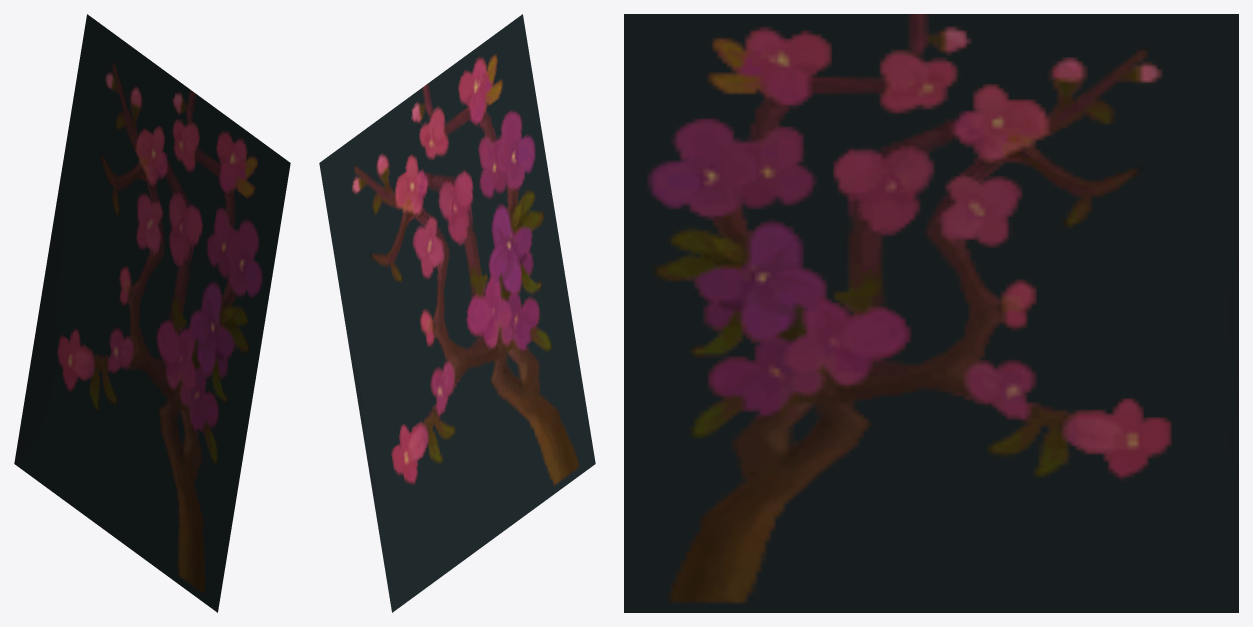
Rendered from jm_zhiwu05.FBX.
The picture shows the model from 3 angles, left to right: view 1: azimuth 30°, elevation 25°; view 2: azimuth 150°, elevation 25°; view 3: azimuth 270°, elevation 25°; orthographic projection. The views are drawn at different scales.
Visible parts, largest first — view 1: jm_zhiwu05_001; view 2: jm_zhiwu05_001; view 3: jm_zhiwu05_001.
Part boxes in pixels (bbox=[...]): jm_zhiwu05_001: bbox=[14, 14, 290, 612]; jm_zhiwu05_001: bbox=[319, 14, 595, 612]; jm_zhiwu05_001: bbox=[624, 14, 1238, 612].
Size of the model in its own units: 0.5163 by 2.93 by 2.5.
Materials: 1 (1 with a texture image).
